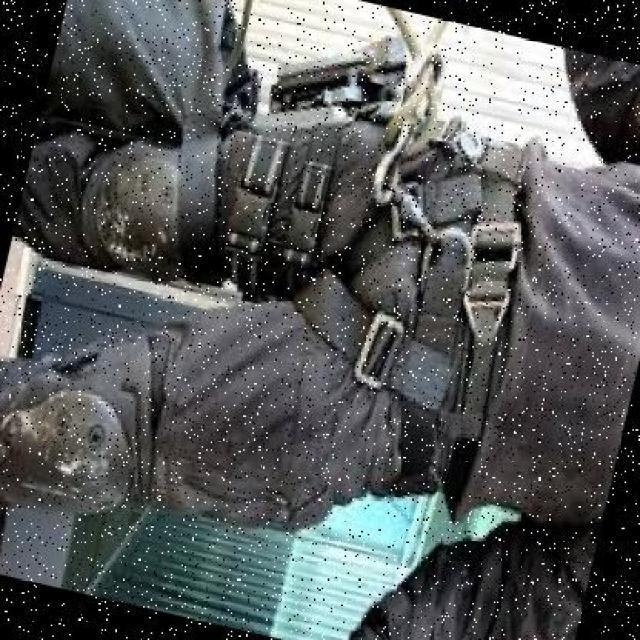Arnes_seguridad: (156, 23, 572, 568)
